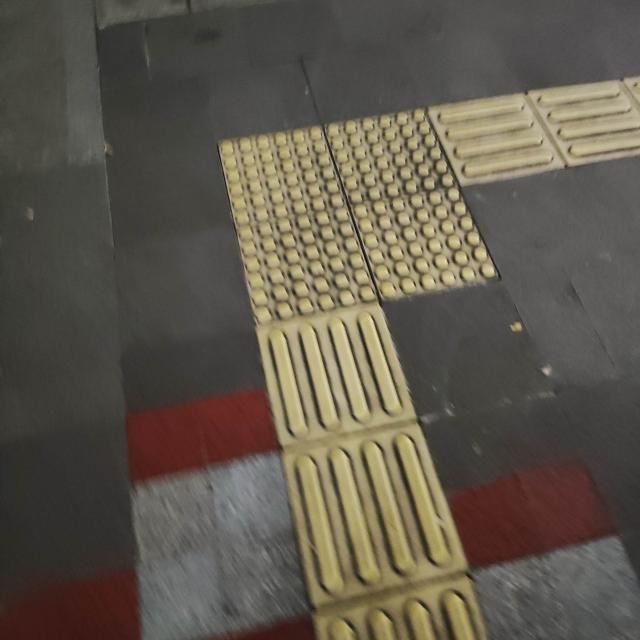kanan: (162, 89, 640, 361)
